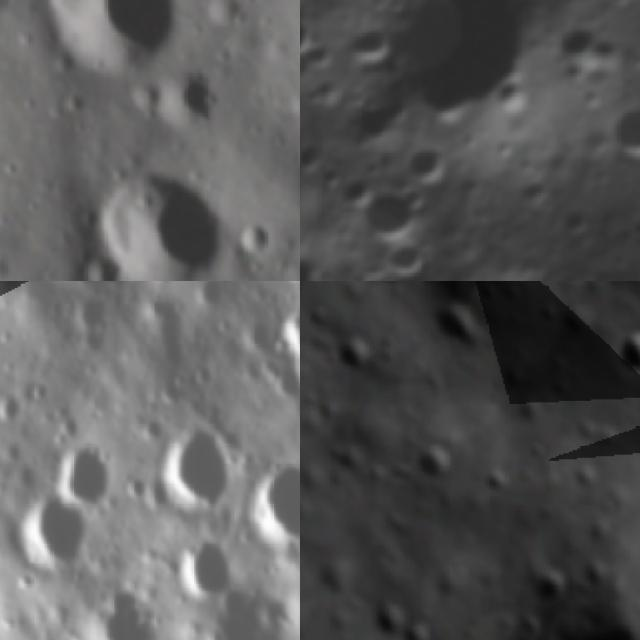crater: (350, 0, 584, 157), (68, 159, 233, 281), (13, 0, 187, 88), (0, 480, 108, 578), (149, 416, 243, 523), (415, 284, 504, 372), (46, 426, 131, 518), (346, 169, 434, 256), (337, 73, 420, 161), (247, 450, 300, 562), (69, 585, 170, 640), (542, 6, 616, 80), (173, 530, 241, 610), (334, 13, 401, 80), (592, 84, 640, 175), (519, 552, 582, 617), (396, 135, 459, 195), (374, 225, 439, 281), (403, 434, 467, 489), (159, 71, 220, 128), (270, 289, 300, 395), (601, 313, 640, 389), (330, 324, 380, 382), (512, 163, 565, 217), (554, 195, 608, 248), (366, 595, 412, 640), (310, 151, 353, 199), (300, 0, 330, 66), (300, 129, 332, 183), (564, 461, 603, 496), (240, 219, 272, 260), (478, 462, 512, 498), (0, 382, 24, 428), (394, 616, 433, 640)
